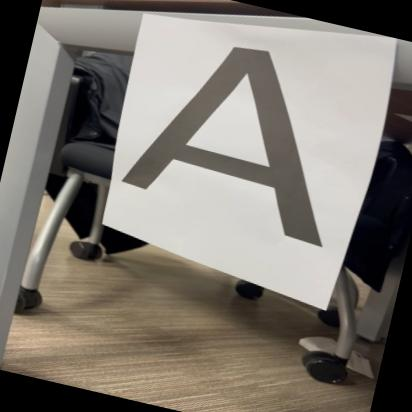seat: (108, 24, 362, 256)
